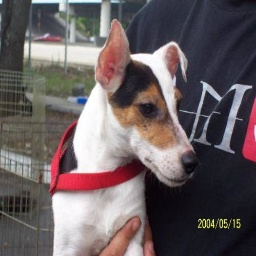dog: (49, 22, 197, 253)
